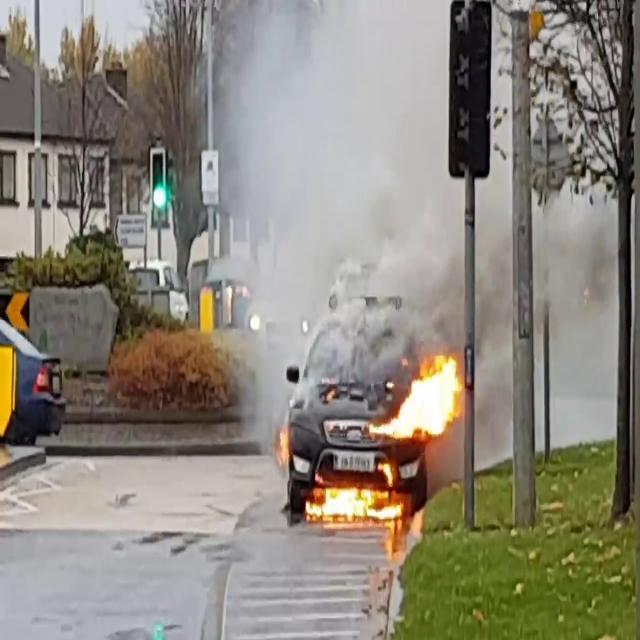Fire: (381, 348, 467, 444), (304, 472, 398, 528)
Smoke: (200, 0, 614, 374)
